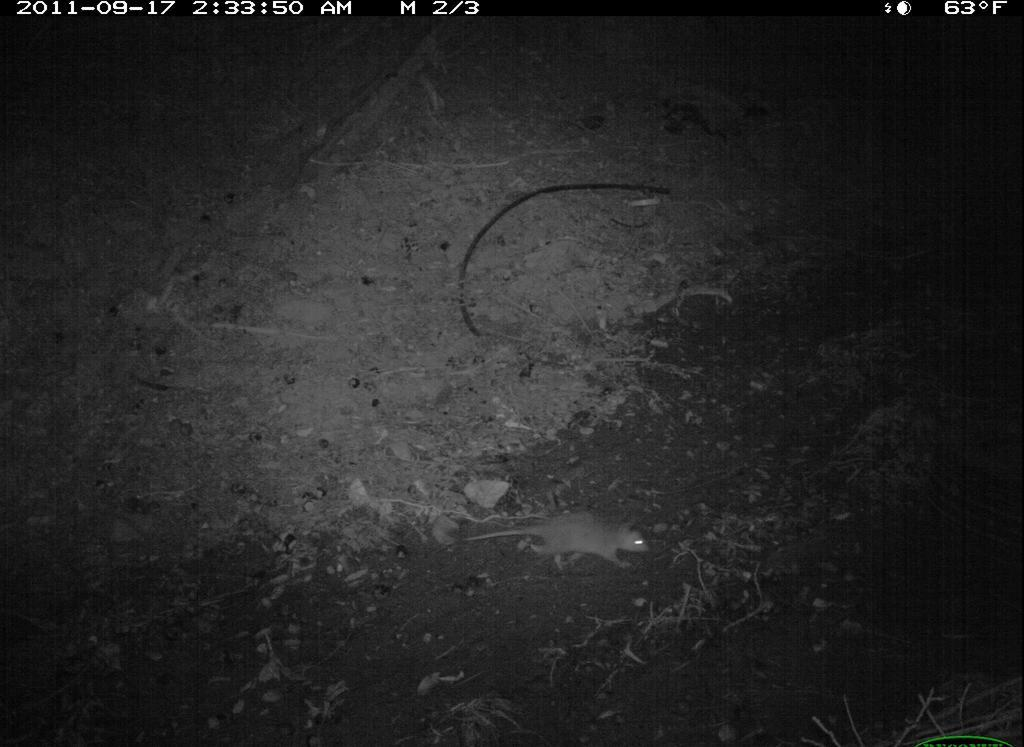opossum: (459, 502, 656, 578)
